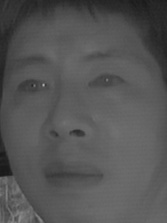eye: (86, 71, 128, 95), (12, 77, 50, 99)
mouth: (39, 154, 108, 196)
